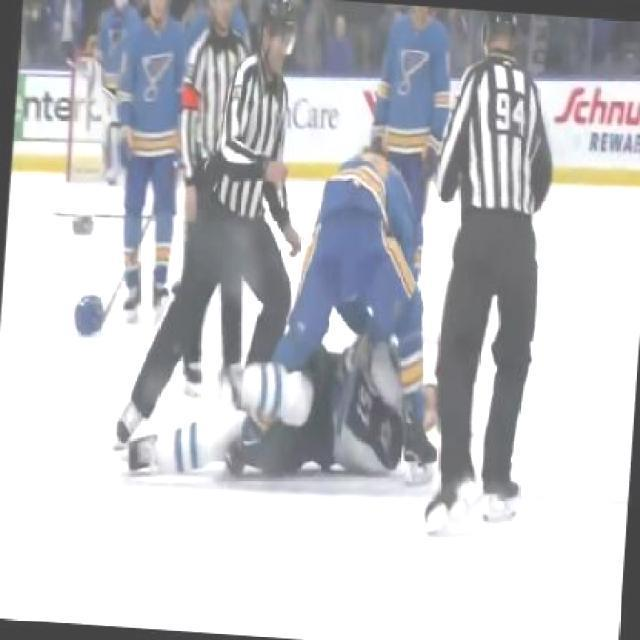fight: (276, 140, 456, 500)
non-fight: (416, 9, 567, 536), (170, 0, 312, 308)
